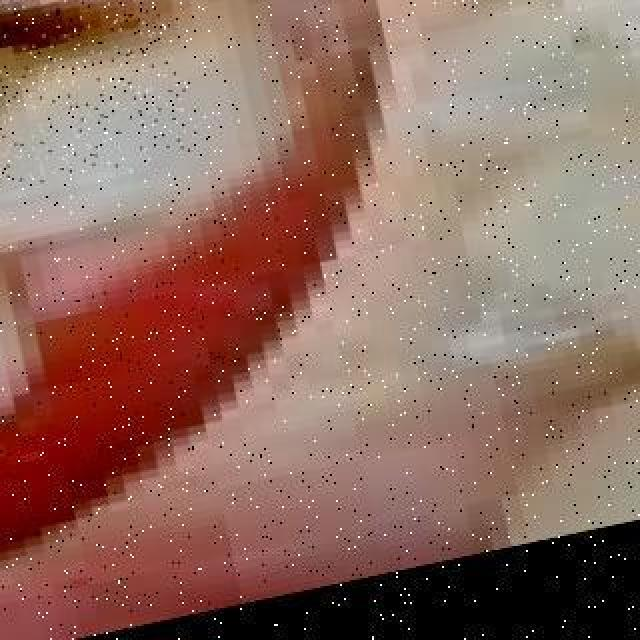cavities: (0, 0, 174, 252)
